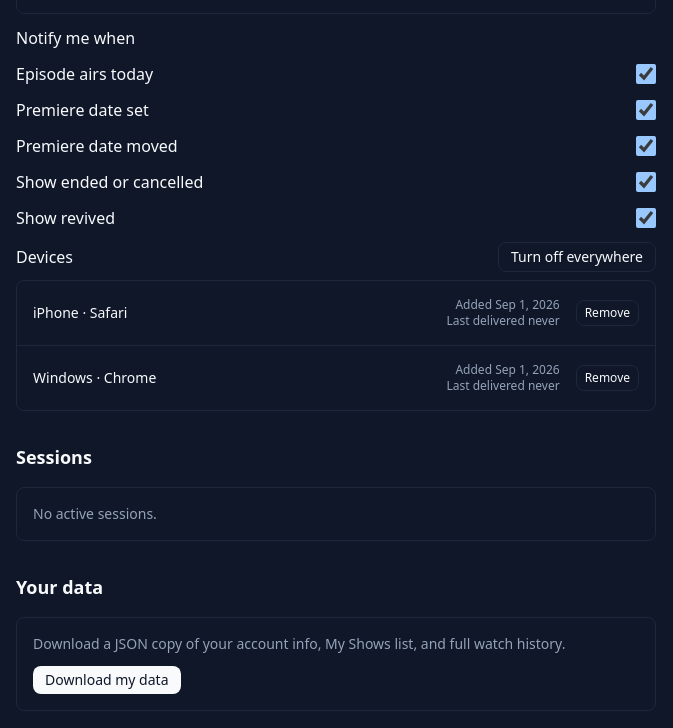
Test: Device list › removes another device by id and leaves this one subscribed
This screenshot has width=673, height=728.
(page scrolled)
Click the button with aria-label "Remove Windows · Chrome" at (607, 378), box [576, 365, 639, 391]
(page scrolled)
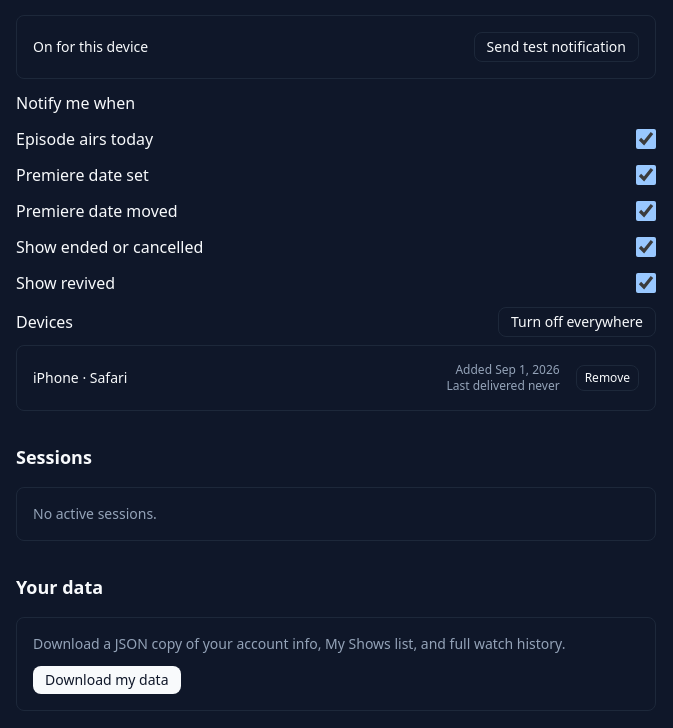
Expected: the text "On for this device" is shown, [33, 37, 148, 57]
Expected: the text "Windows · Chrome" is gone
